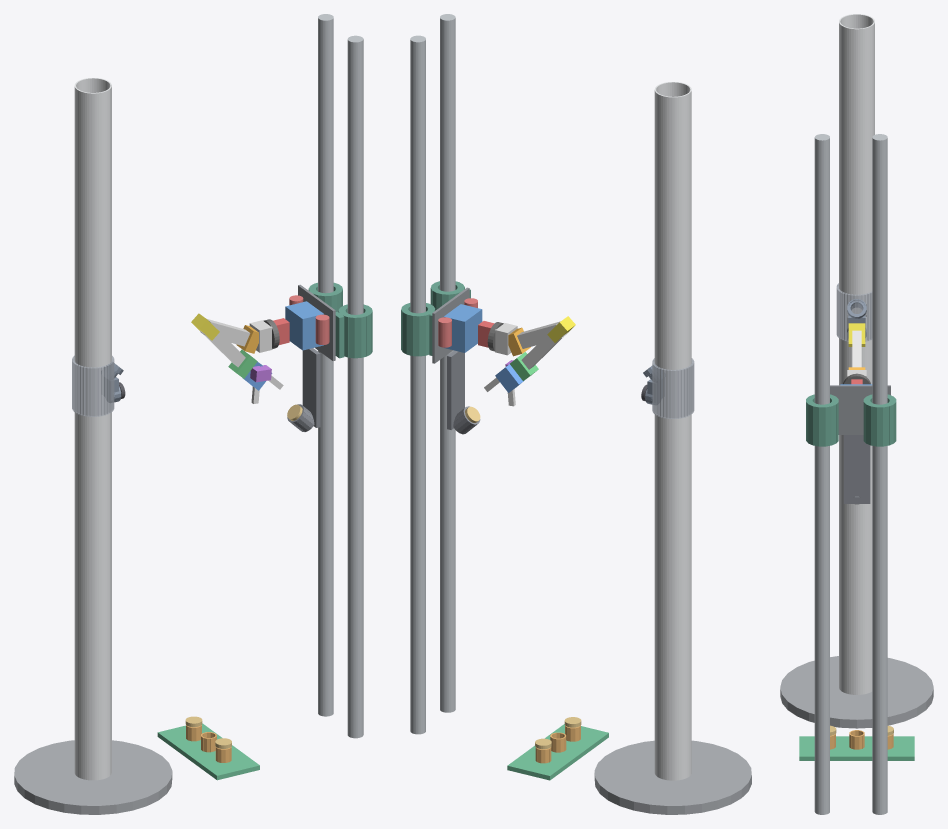
File: transplant-seedling-step3-plug-v1.glb
The picture shows the model from 3 angles, left to right: view 1: azimuth 30°, elevation 25°; view 2: azimuth 150°, elevation 25°; view 3: azimuth 270°, elevation 25°; orthographic projection. The views are drawn at different scales.
Size of the model in its own units: 0.7641 by 1.55 by 0.32.
